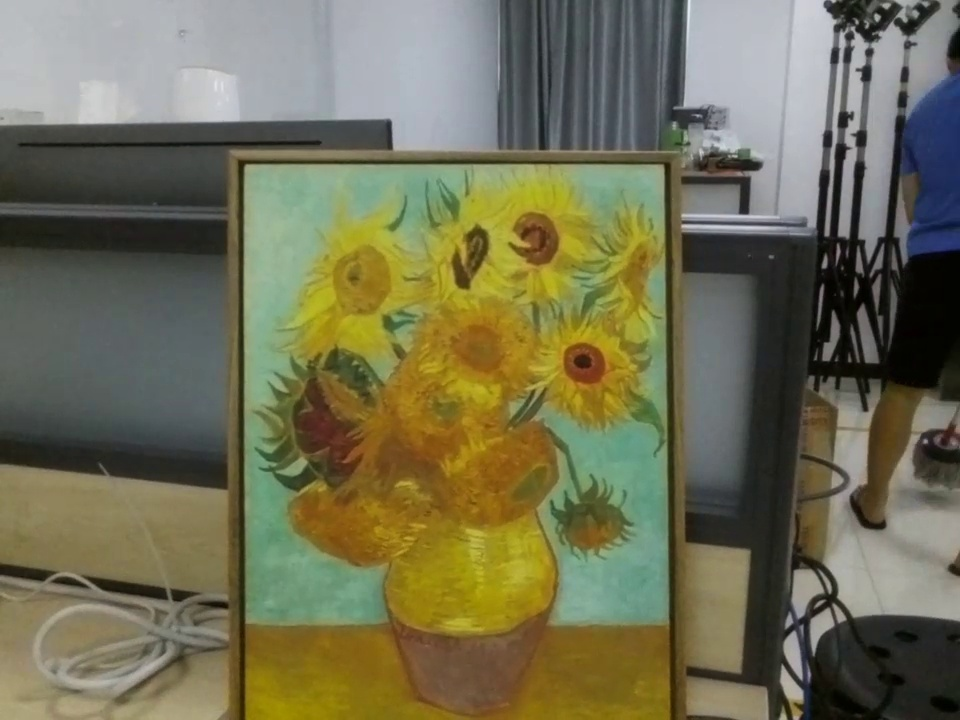painting: (225, 144, 688, 719)
